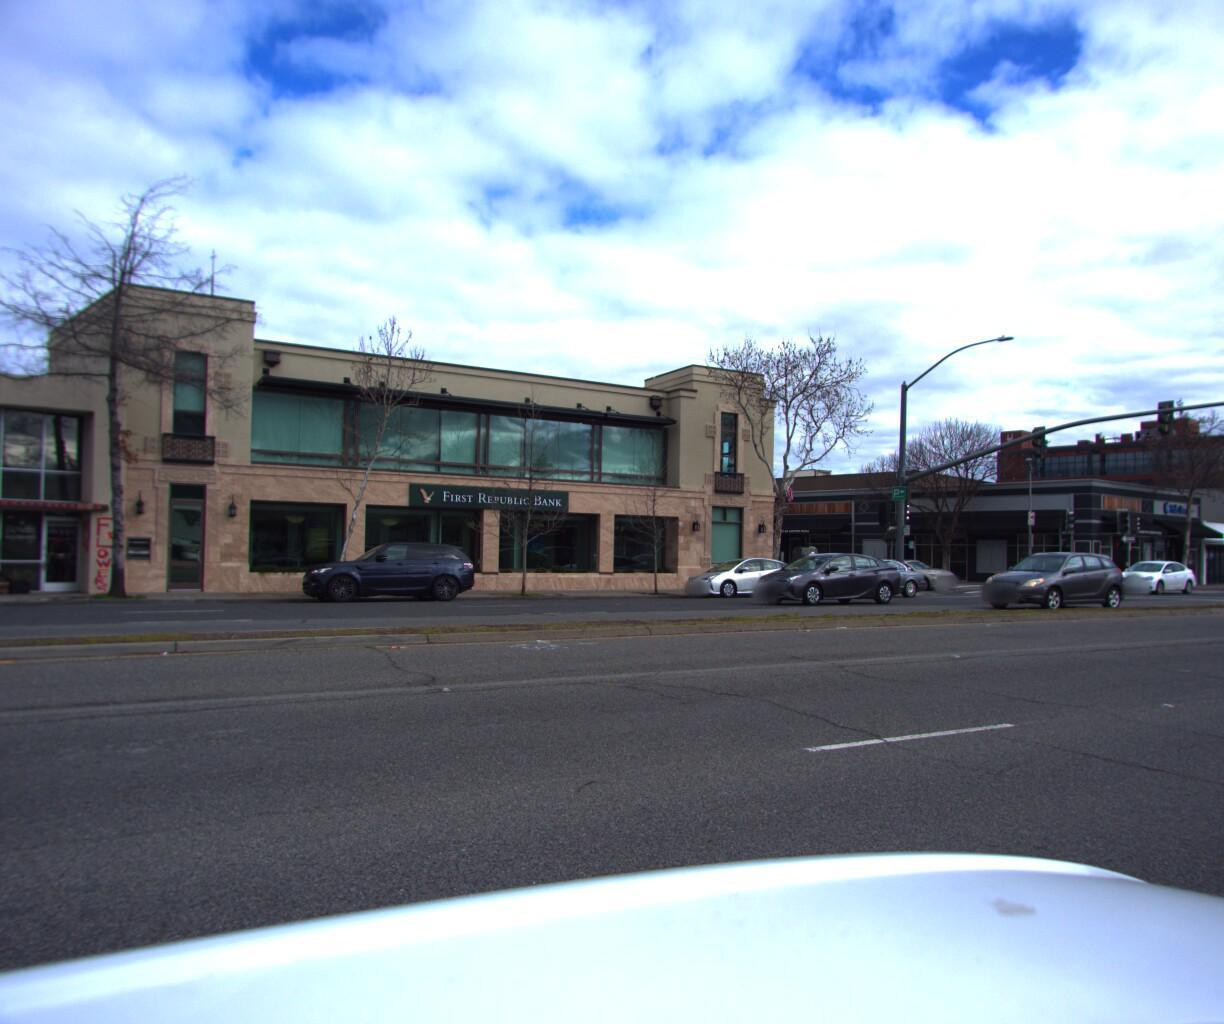car: (287, 533, 484, 606), (964, 544, 1125, 606), (737, 547, 909, 605), (667, 549, 810, 596), (795, 552, 930, 596), (850, 550, 966, 585), (1102, 552, 1195, 588)
